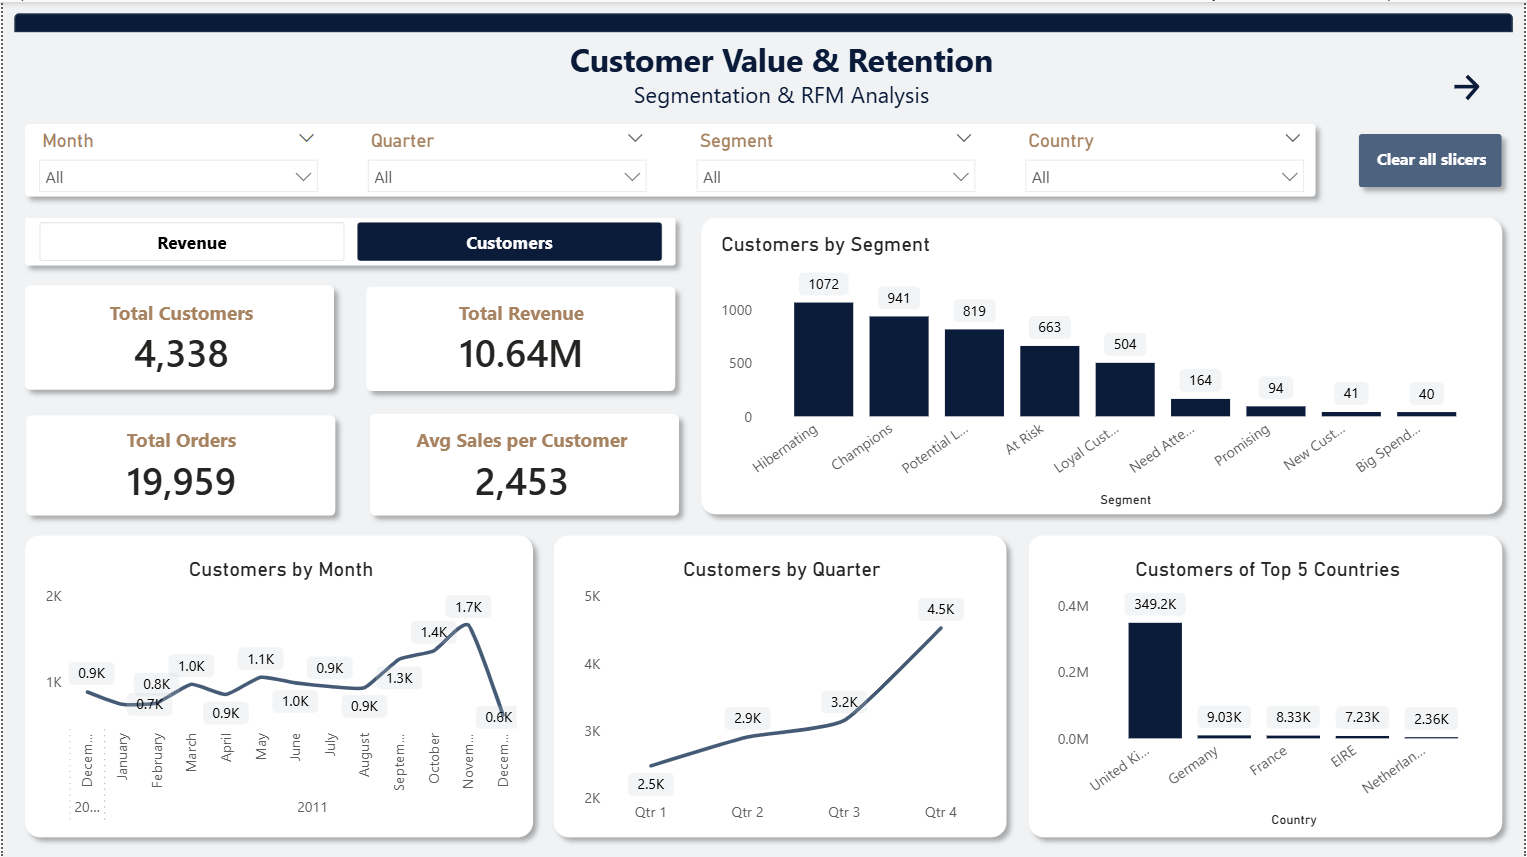

The dashboard page shown, as its layout file describes it:
{"tool":"powerbi","page":{"name":"Overview","canvas":[1280,720],"ordinal":0},"visuals":[{"type":"shape","box":[9.3,94,1103.5,79.1],"z":0,"group":"g5"},{"type":"shape","box":[1131.4,102.3,138.4,62.8],"z":0,"group":"g4"},{"type":"slicer","fields":{"Values":["MonthlySales.Month.Variation.Date Hierarchy.Month"]},"box":[19.8,103.2,255.1,61.9],"z":0,"group":"g1"},{"type":"shape","box":[9.3,229.1,277.9,105.9],"z":0,"group":"g2"},{"type":"shape","box":[10.5,338.2,277.9,102.5],"z":0,"group":"g3"},{"type":"shape","box":[853.5,439.5,416.3,272.1],"z":0},{"type":"clusteredColumnChart","title":"Customers of Top 5 Countries","fields":{"Category":["SalesTransactions.Country"],"Y":["CountNonNull(SalesTransactions.CustomerID)"]},"box":[873.2,466.3,380.2,232.6],"z":0,"group":"g6"},{"type":"group","id":"g1","title":"Group 1","box":[19.8,103.2,1084.7,61.9],"z":1000,"group":"g5"},{"type":"slicer","fields":{"Values":["MonthlySales.Month.Variation.Date Hierarchy.Quarter"]},"box":[296.4,103.2,255.1,61.9],"z":1000,"group":"g1"},{"type":"actionButton","box":[1141.4,105.4,119.8,52.3],"z":1000,"group":"g4"},{"type":"cardVisual","fields":{"Data":["CustomerRFM.Total Customers"]},"box":[30.2,230.3,239.5,104.7],"z":1000,"group":"g2"},{"type":"cardVisual","fields":{"Data":["CustomerRFM.One-Time Buyers"]},"box":[30.3,338.4,239.5,102.3],"z":1000,"group":"g3"},{"type":"shape","box":[454.7,439.5,398.8,272.1],"z":1000},{"type":"lineChart","title":"Customers by Quarter","fields":{"Category":["MonthlySales.Month.Variation.Date Hierarchy.Quarter"],"Y":["Sum(MonthlySales.Customers)"]},"box":[483.7,466.3,343,232.6],"z":1000,"group":"g6"},{"type":"slicer","fields":{"Values":["CustomerRFM.Segment"]},"box":[573,103.2,255.1,61.9],"z":2000,"group":"g1"},{"type":"shape","box":[296.5,230.1,277.9,105.9],"z":2000,"group":"g2"},{"type":"shape","box":[300,337.2,277.9,103.5],"z":2000,"group":"g3"},{"type":"shape","box":[9.3,439.5,445.4,272.1],"z":2000},{"type":"lineChart","title":"Customers by Month","fields":{"Category":["MonthlySales.Month.Variation.Date Hierarchy.Year","MonthlySales.Month.Variation.Date Hierarchy.Month"],"Y":["Sum(MonthlySales.Customers)"]},"box":[30.2,466.3,407,232.6],"z":2000,"group":"g6"},{"type":"slicer","fields":{"Values":["SalesTransactions.Country"]},"box":[849.4,103.2,255.1,61.9],"z":3000,"group":"g1"},{"type":"shape","box":[577.9,172.1,691.9,267.4],"z":3000},{"type":"lineStackedColumnComboChart","title":"Customers by Segment","fields":{"Category":["CustomerRFM.Segment"],"Y":["CustomerRFM.Total Customers"]},"box":[598.8,193,654.7,236],"z":3000,"group":"g6"},{"type":"cardVisual","fields":{"Data":["CustomerRFM.Total Revenue"]},"box":[316.3,230.3,239.5,104.7],"z":3000,"group":"g2"},{"type":"cardVisual","fields":{"Data":["CustomerRFM.Avg Sales per Customer"]},"box":[305.8,338.4,261.6,102.3],"z":3000,"group":"g3"},{"type":"textbox","box":[447.7,25.6,414,75.6],"z":4000},{"type":"shape","box":[9.3,9.3,1260.5,16.3],"z":5000},{"type":"actionButton","box":[1215.1,57,37.2,30.2],"z":6000},{"type":"shape","box":[9.3,172.1,565.1,58.1],"z":7000},{"type":"group","id":"g2","title":"Group 6","box":[9.3,229.1,565.1,107],"z":8000},{"type":"group","id":"g3","title":"Group 7","box":[10.5,337.2,567.4,103.5],"z":9000},{"type":"group","id":"g4","title":"Group 8","box":[1131.4,102.3,138.4,62.8],"z":10000},{"type":"group","id":"g5","title":"Group 9","box":[9.3,94,1103.5,79.1],"z":11000},{"type":"bookmarkNavigator","box":[30.2,184.9,525.6,33.7],"z":12000},{"type":"group","id":"g6","title":"Customers","box":[30.2,193,1223.3,505.8],"z":14000},{"type":"bookmarkNavigator","box":[30.4,185.1,524.9,33.3],"z":15000}]}

Visuals, with their boxes in screenshot pixels (x1, y1, x2, y2), scaled from the page's 1280x720 canvas onto the 1527x857 screenshot:
shape: 11, 112, 1328, 206
shape: 1350, 122, 1515, 197
slicer - MonthlySales.Month.Variation.Date Hierarchy.Month: 24, 123, 328, 197
shape: 11, 273, 343, 399
shape: 13, 403, 344, 525
shape: 1018, 523, 1515, 847
"Customers of Top 5 Countries" clusteredColumnChart: 1042, 555, 1495, 832
"Group 1" group: 24, 123, 1318, 197
slicer - MonthlySales.Month.Variation.Date Hierarchy.Quarter: 354, 123, 658, 197
actionButton: 1362, 125, 1505, 188
cardVisual - CustomerRFM.Total Customers: 36, 274, 322, 399
cardVisual - CustomerRFM.One-Time Buyers: 36, 403, 322, 525
shape: 542, 523, 1018, 847
"Customers by Quarter" lineChart: 577, 555, 986, 832
slicer - CustomerRFM.Segment: 684, 123, 988, 197
shape: 354, 274, 685, 400
shape: 358, 401, 689, 525
shape: 11, 523, 542, 847
"Customers by Month" lineChart: 36, 555, 522, 832
slicer - SalesTransactions.Country: 1013, 123, 1318, 197
shape: 689, 205, 1515, 523
"Customers by Segment" lineStackedColumnComboChart: 714, 230, 1495, 511
cardVisual - CustomerRFM.Total Revenue: 377, 274, 663, 399
cardVisual - CustomerRFM.Avg Sales per Customer: 365, 403, 677, 525
textbox: 534, 30, 1028, 120
shape: 11, 11, 1515, 30
actionButton: 1450, 68, 1494, 104
shape: 11, 205, 685, 274
"Group 6" group: 11, 273, 685, 400
"Group 7" group: 13, 401, 689, 525
"Group 8" group: 1350, 122, 1515, 197
"Group 9" group: 11, 112, 1328, 206
bookmarkNavigator: 36, 220, 663, 260
"Customers" group: 36, 230, 1495, 832
bookmarkNavigator: 36, 220, 662, 260
